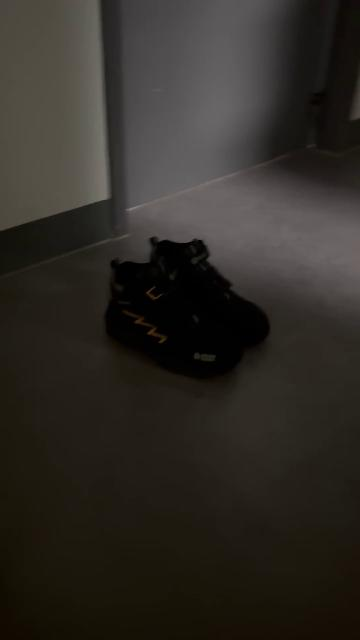shoe_worn: (105, 257, 240, 384), (144, 236, 277, 357)
